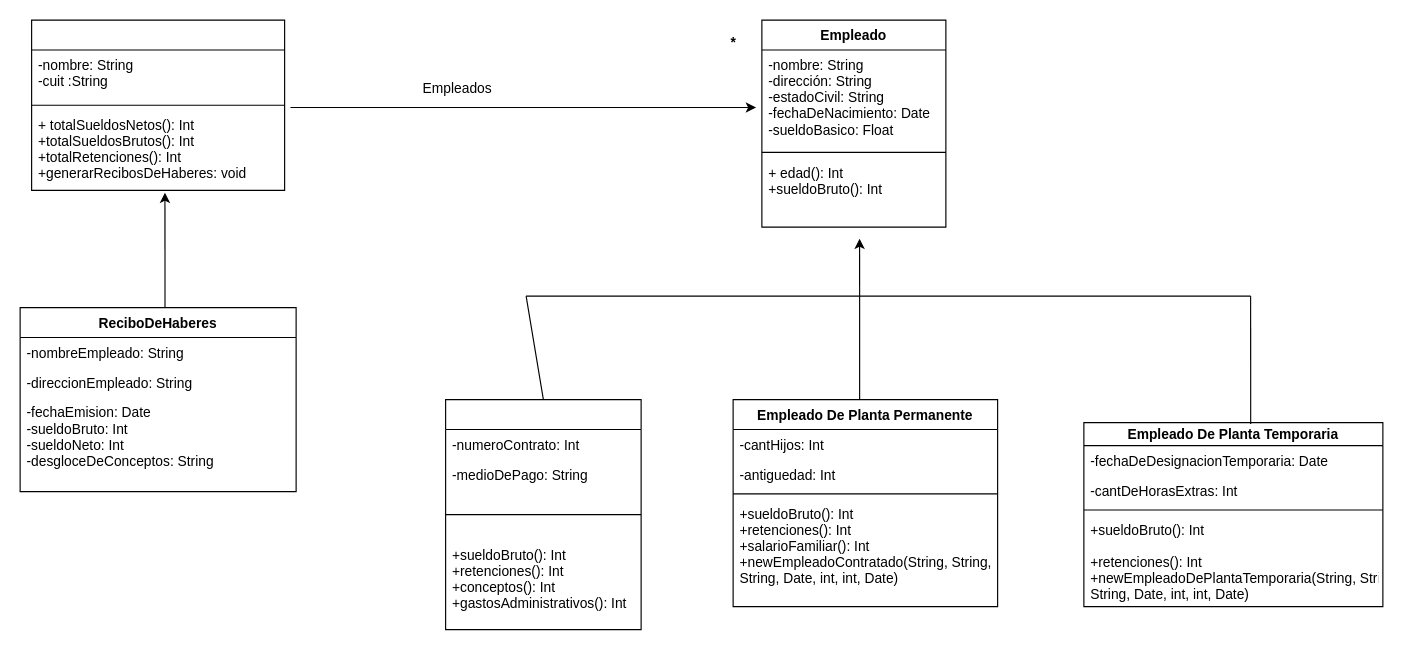
Image size: 1419x653. Some labels were removed from this diagram. The shapes that lost their labels are listed below. From the top down, each one's box as (x1, y1, x2, y2) in pixels, then its label:
(30, 19, 285, 190): Empresa
(444, 398, 641, 630): Contratado
